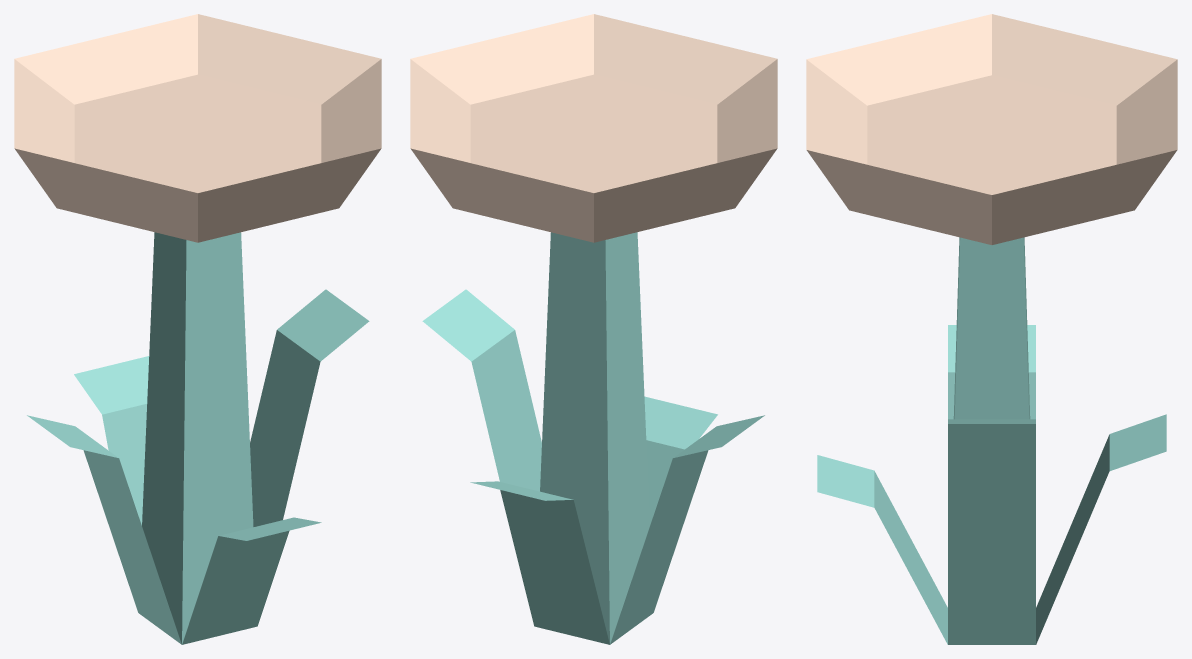
Rendered from flower_beige3.glb.
3 renders of one model, left to right at view 1: azimuth 30°, elevation 25°; view 2: azimuth 150°, elevation 25°; view 3: azimuth 270°, elevation 25°, orthographic.
Parts seen in each view (by area): view 1: flower_beige3; view 2: flower_beige3; view 3: flower_beige3.
Part boxes in pixels (x1,y1,x2,y2): flower_beige3: (14, 14, 381, 644); flower_beige3: (410, 14, 777, 644); flower_beige3: (806, 14, 1177, 644).
Bounding box in the file's own units: 0.1513 × 0.2032 × 0.131.
